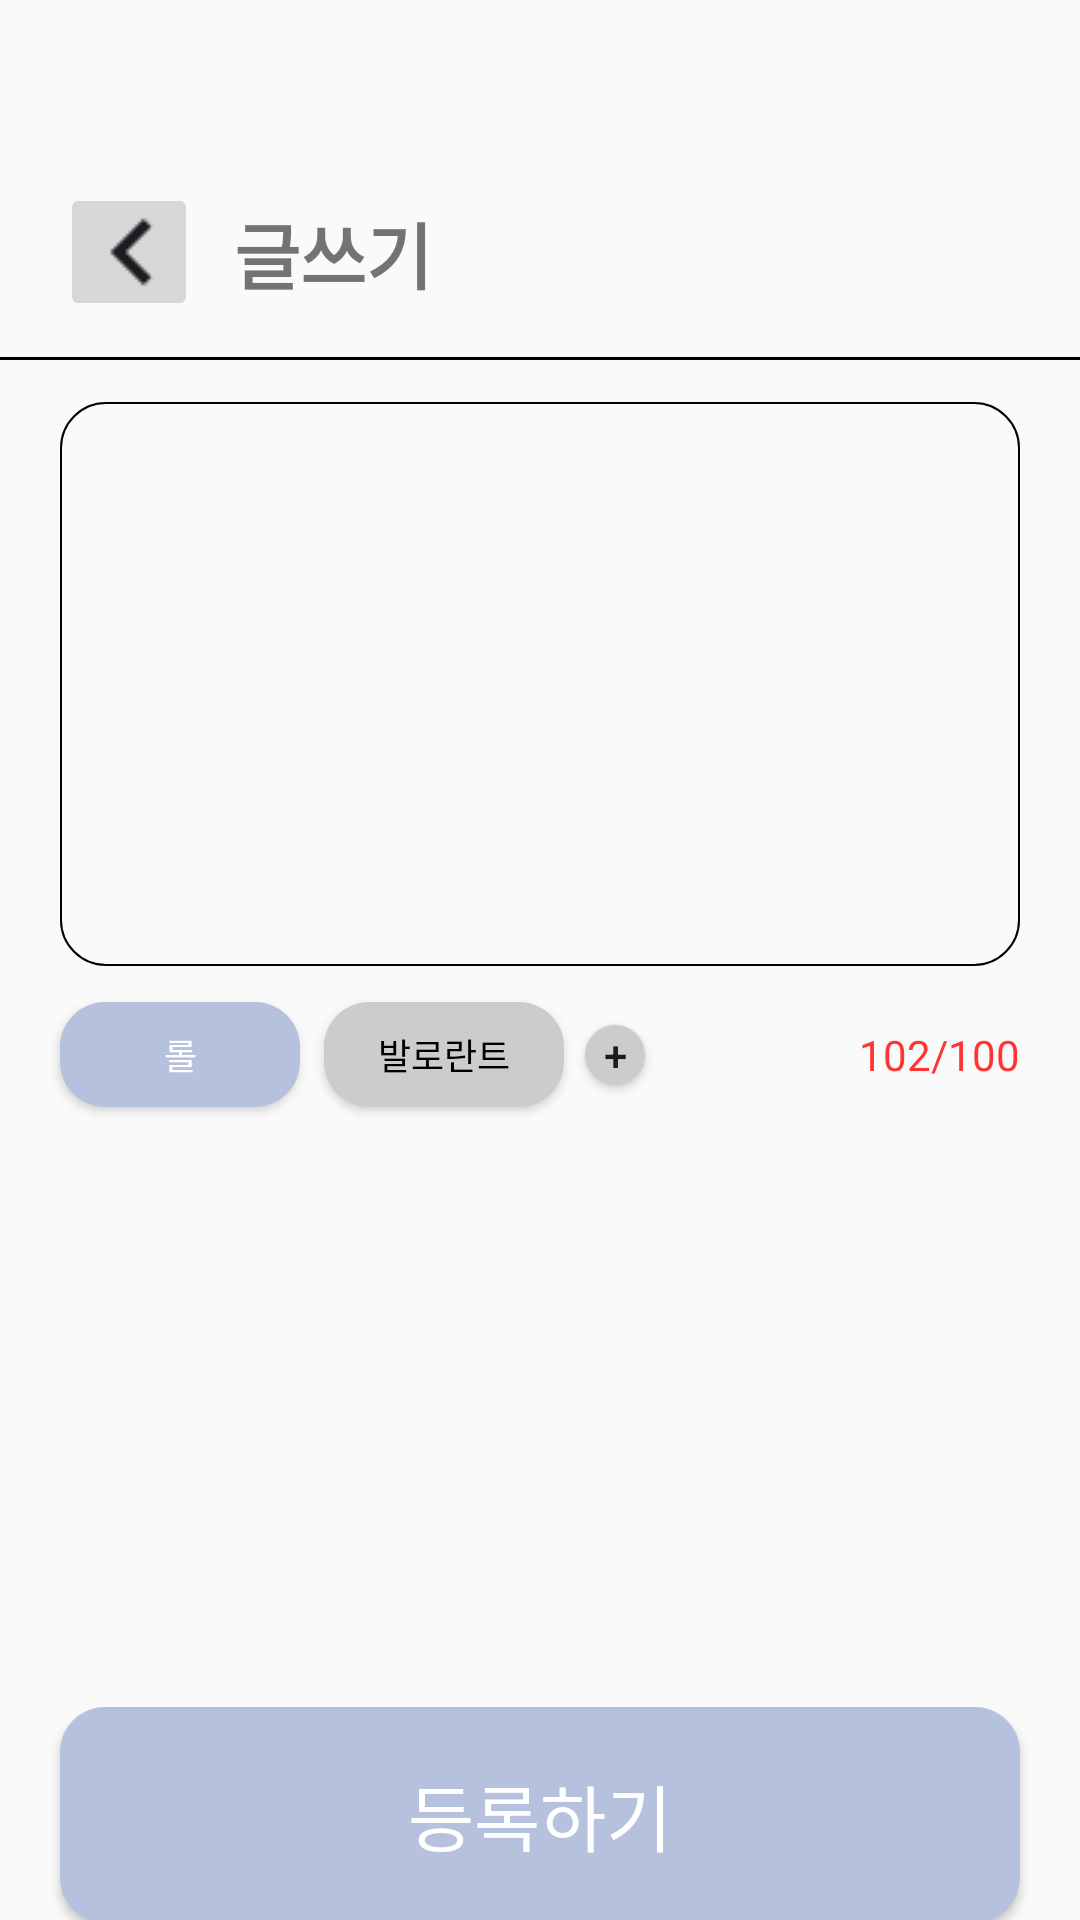

Named icons in this screenshot (1080w x 1920h) and their centers, (x,y):
back: (129,252)
